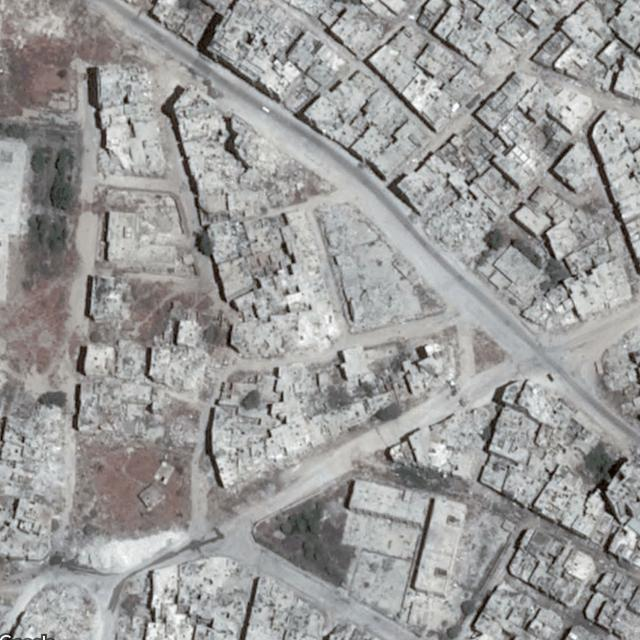damaged_building: (168, 80, 335, 262), (74, 340, 206, 445), (388, 400, 496, 479), (5, 400, 70, 525), (413, 200, 493, 265), (11, 583, 98, 640), (96, 64, 156, 126)
